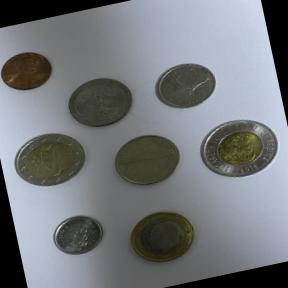1 Euro-B: (114, 195, 209, 273)
2 Euro-B: (2, 124, 94, 198)
Canada-10cent-B: (44, 205, 115, 264)
Canada-2Dollar-B: (188, 102, 288, 191)
Croatia-2Kune-B: (100, 119, 193, 197)
US-1cent-B: (0, 38, 68, 103)
US-25cent-B: (58, 68, 142, 136)
